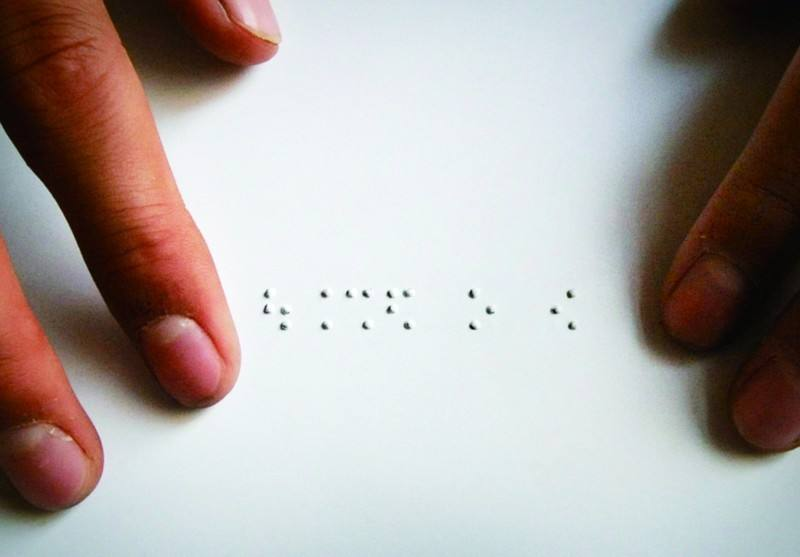Braille: (384, 287, 419, 333), (343, 287, 375, 332), (547, 287, 579, 332), (260, 289, 292, 333), (300, 287, 331, 332), (467, 288, 497, 333)
